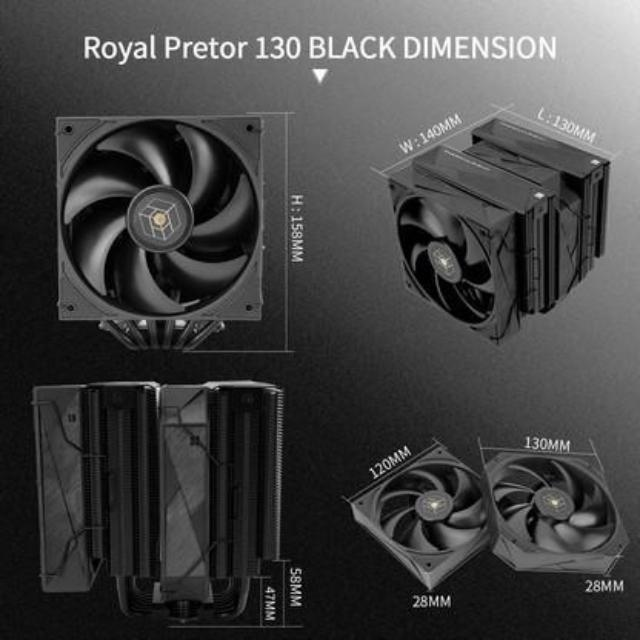CPU_Fan: (29, 374, 280, 626), (54, 110, 264, 356), (388, 114, 608, 348)
